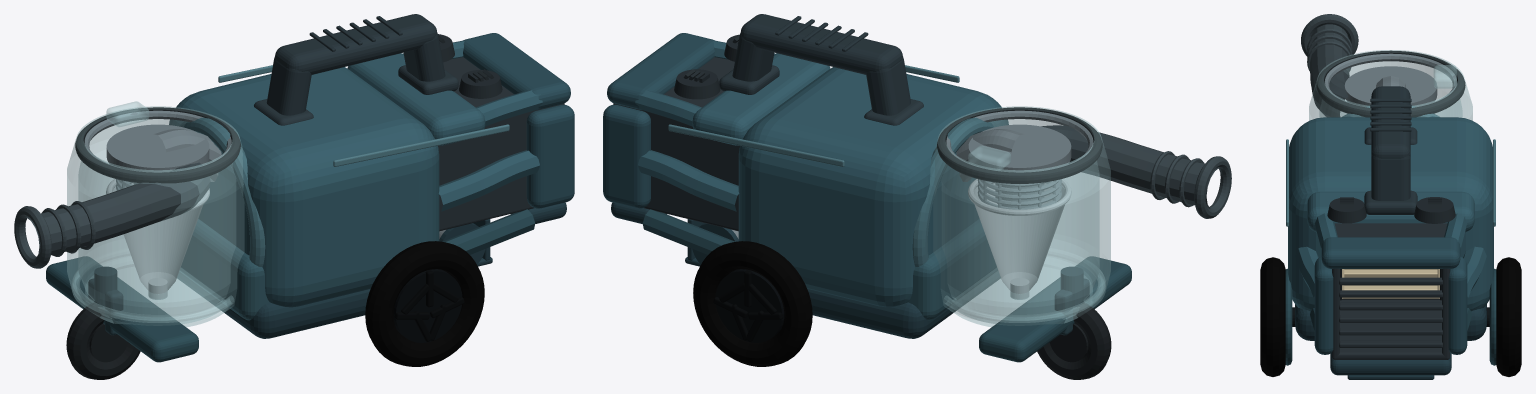
Rendered from cyclonic_vacuum.glb.
The picture shows the model from 3 angles, left to right: view 1: azimuth 30°, elevation 25°; view 2: azimuth 150°, elevation 25°; view 3: azimuth 270°, elevation 25°; orthographic projection. The views are drawn at different scales.
Visible parts, largest first — view 1: outer_body, dust_bin, main_wheels, carry_handle, hose_inlet, exhaust_vent, cyclone_shroud, cyclone_cone, caster_wheel, bin_seal, power_control; view 2: outer_body, dust_bin, main_wheels, carry_handle, cyclone_shroud, hose_inlet, exhaust_vent, cyclone_cone, caster_wheel, bin_seal, power_control; view 3: outer_body, exhaust_vent, main_wheels, carry_handle, dust_bin, cyclone_shroud, hose_inlet, bin_seal, power_control, exhaust_filter.
Boxes of the visible parts, box(x1,y1,x2,y2) form: outer_body: box(46, 33, 574, 362); dust_bin: box(67, 101, 244, 327); main_wheels: box(365, 241, 484, 366); carry_handle: box(254, 14, 458, 125); hose_inlet: box(14, 162, 210, 268); exhaust_vent: box(438, 57, 564, 231); cyclone_shroud: box(84, 110, 231, 190); cyclone_cone: box(106, 179, 209, 299); caster_wheel: box(66, 302, 140, 379); bin_seal: box(75, 107, 240, 183); power_control: box(438, 34, 502, 98); outer_body: box(603, 33, 1131, 362); dust_bin: box(933, 106, 1110, 327); main_wheels: box(693, 241, 812, 366); carry_handle: box(719, 14, 923, 125); cyclone_shroud: box(946, 110, 1093, 209); hose_inlet: box(1041, 125, 1231, 218); exhaust_vent: box(613, 57, 739, 231); cyclone_cone: box(968, 179, 1071, 299); caster_wheel: box(1037, 302, 1111, 379); bin_seal: box(937, 107, 1102, 183); power_control: box(674, 34, 739, 99); outer_body: box(1285, 105, 1496, 379); exhaust_vent: box(1332, 223, 1449, 359); main_wheels: box(1260, 257, 1521, 376); carry_handle: box(1364, 86, 1417, 214); dust_bin: box(1309, 50, 1472, 120); cyclone_shroud: box(1325, 53, 1456, 106); hose_inlet: box(1301, 14, 1358, 117); bin_seal: box(1316, 50, 1465, 300); power_control: box(1327, 197, 1455, 223); exhaust_filter: box(1342, 269, 1439, 298).
Bounding box in the file's own units: 4.87 × 2.45 × 2.26.
